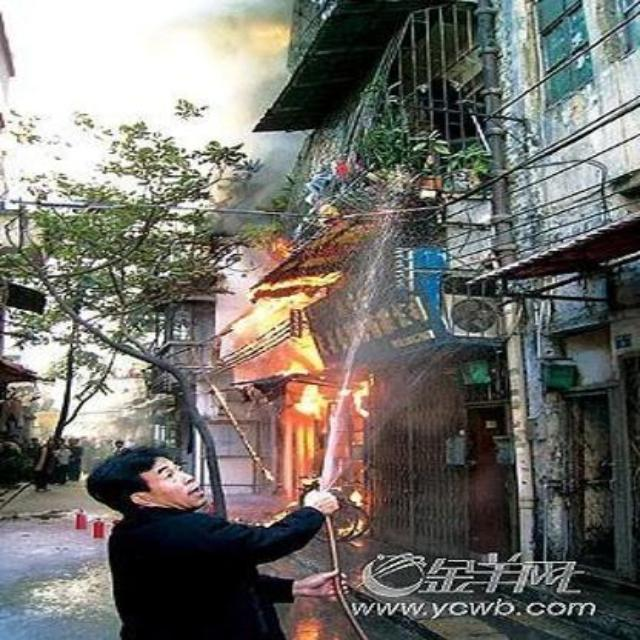Fire: (226, 264, 372, 526)
